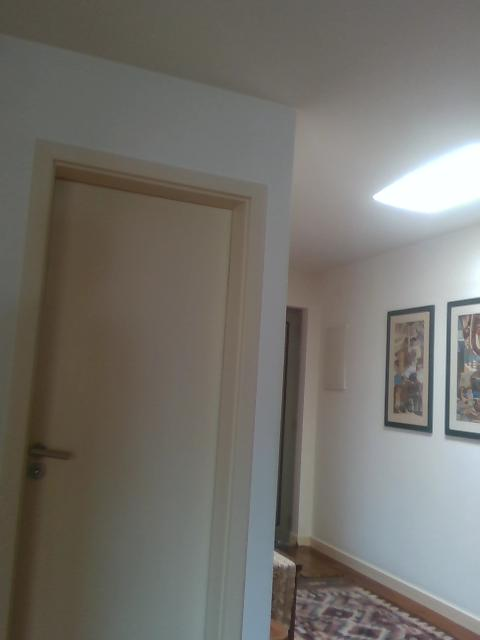closed_door: (1, 138, 264, 638)
